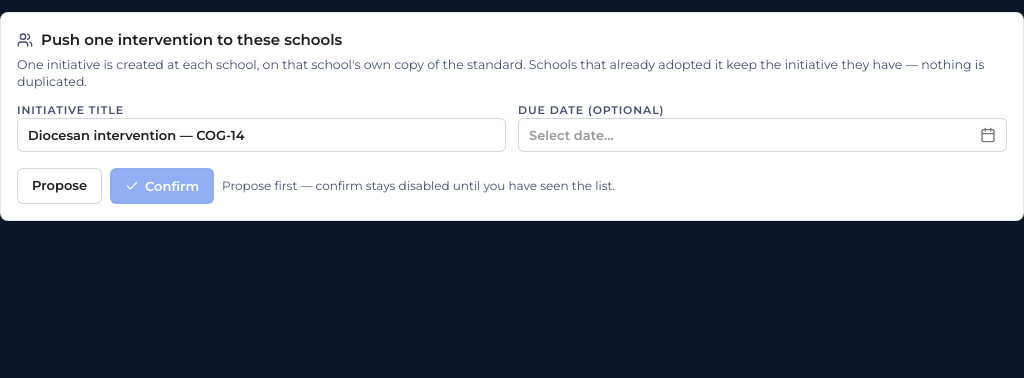
it: WEB-5 — bulk adopt cannot be confirmed before it has been proposed › a 409 PROPOSAL_STALE says the list moved and forces a re-propose
Click the button "Propose" at (60, 186), box [17, 168, 102, 204]
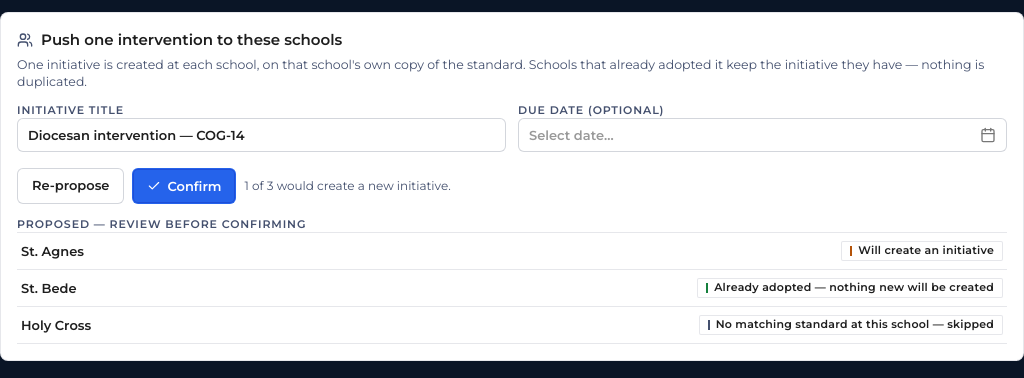
Check: the button "Confirm" is enabled
Click the button "Confirm" at (184, 186), box [132, 168, 236, 204]
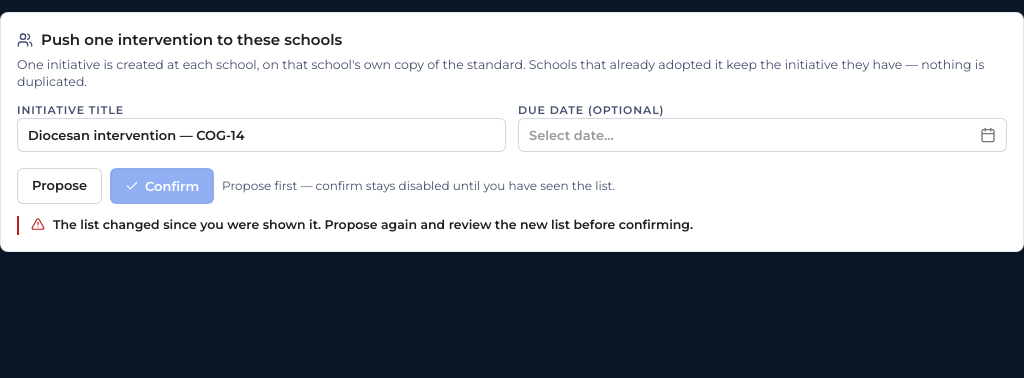
Check: the message shows "list changed", box [53, 217, 693, 232]
Check: the button "Confirm" is disabled, box [110, 168, 214, 204]
